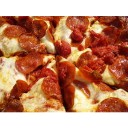pepperonipizza: (1, 16, 128, 112)
